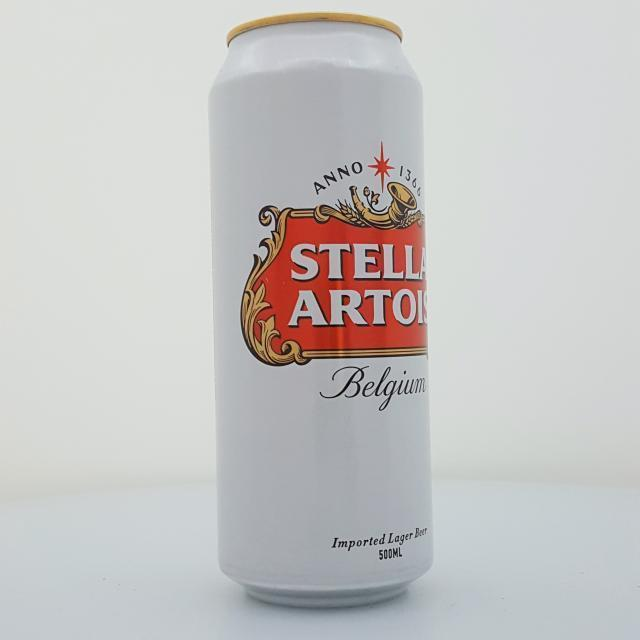can: (204, 6, 439, 613)
